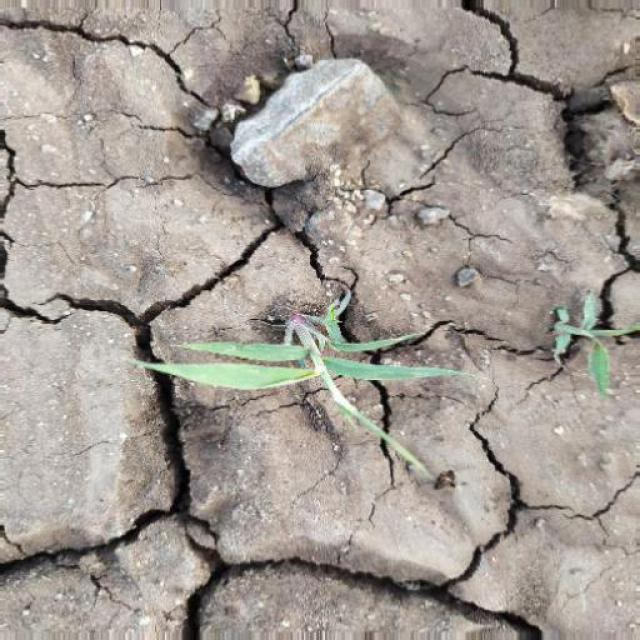weed: (142, 292, 488, 522)
